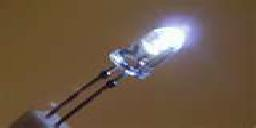LED: (139, 14, 206, 55)
